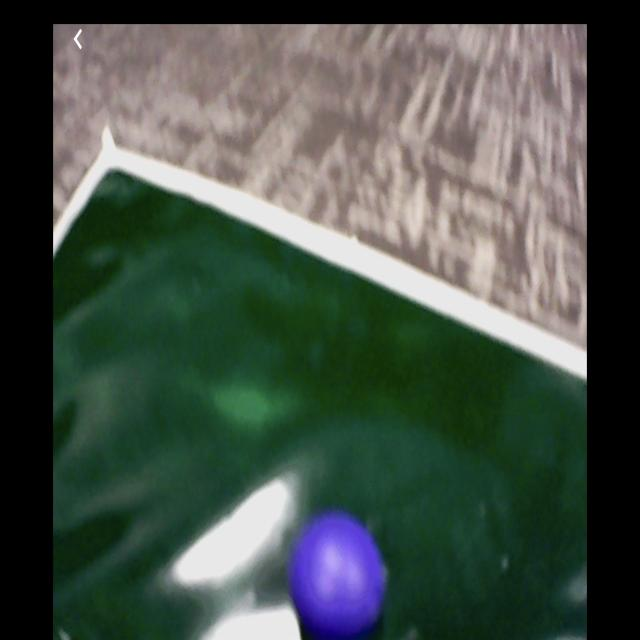ball: (290, 517, 383, 640)
